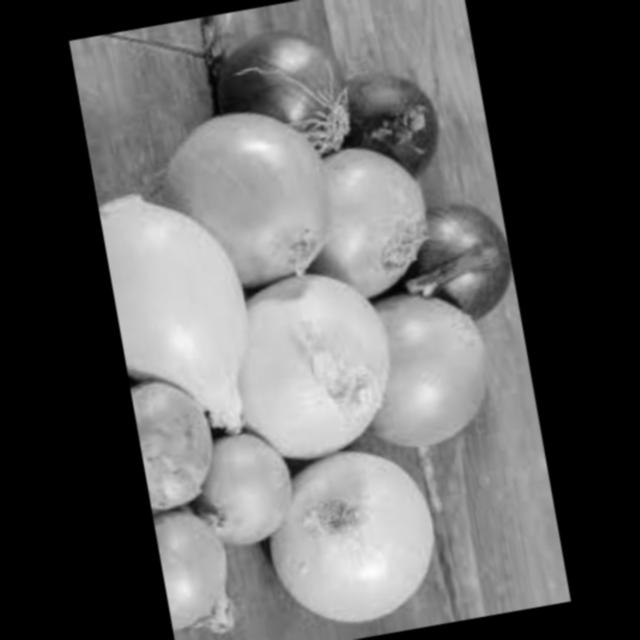onion: (98, 176, 277, 452), (221, 250, 411, 477), (156, 93, 354, 303), (250, 431, 449, 630), (187, 0, 367, 177), (288, 115, 447, 298), (364, 274, 512, 454), (393, 190, 523, 340), (339, 53, 464, 195), (194, 420, 306, 548), (130, 372, 232, 512), (152, 493, 248, 636)
